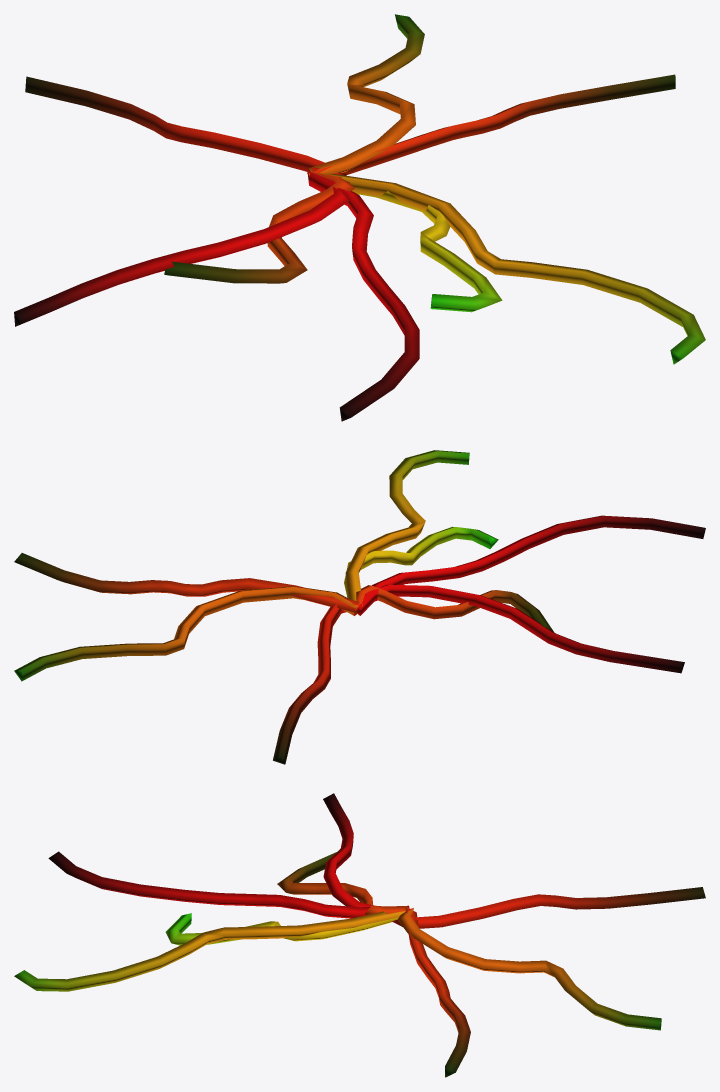
The model's file is Alien01.fbx.
The picture shows the model from 3 angles, top to bottom: view 1: azimuth 30°, elevation 25°; view 2: azimuth 150°, elevation 25°; view 3: azimuth 270°, elevation 25°; orthographic projection. The views are drawn at different scales.
Visible parts, largest first — view 1: transform5; view 2: transform5; view 3: transform5.
Boxes of the visible parts, bbox=[...] form: transform5: bbox=[14, 14, 705, 421]; transform5: bbox=[14, 450, 705, 764]; transform5: bbox=[14, 793, 705, 1077].
Bounding box in the file's own units: 310 × 19.17 × 324.
